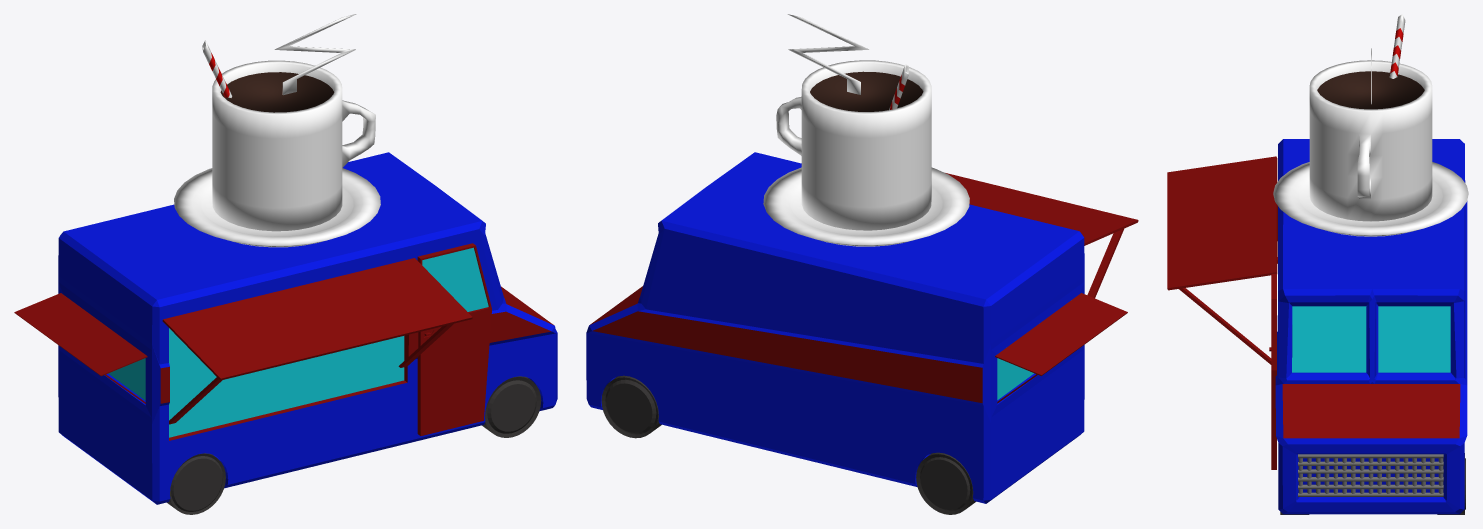
Rendered from FoodTruck_Nvl2_.fbx.
3 views of the same model, side by side, from view 1: azimuth 30°, elevation 25°; view 2: azimuth 150°, elevation 25°; view 3: azimuth 270°, elevation 25° (orthographic). The views are drawn at different scales.
Visible parts, largest first — view 1: FoodTruck_nivel2; view 2: FoodTruck_nivel2; view 3: FoodTruck_nivel2.
Boxes of the visible parts, x1=… form: FoodTruck_nivel2: x1=14, y1=14, x2=557, y2=514; FoodTruck_nivel2: x1=586, y1=14, x2=1138, y2=514; FoodTruck_nivel2: x1=1167, y1=14, x2=1468, y2=514.
Bounding box in the file's own units: 3166 × 2764 × 1932.
